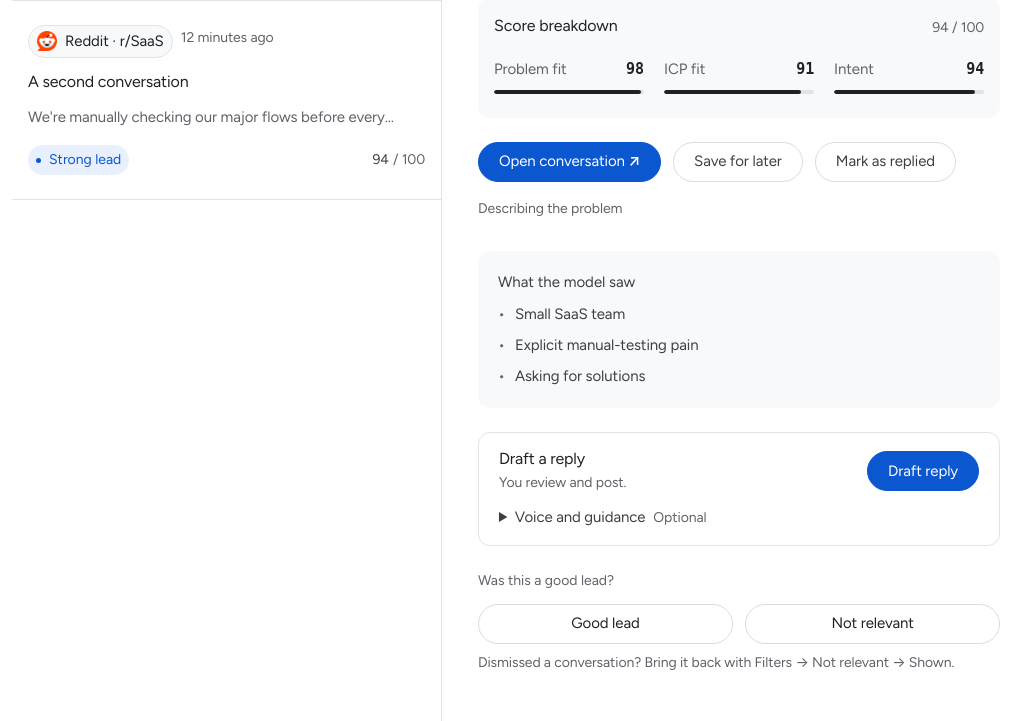
the inbox › the two buttons on a match › keeps the match on the screen when the verdict could not be saved
(page scrolled)
Click the button "Not relevant" at (873, 624), box [745, 604, 1000, 644]
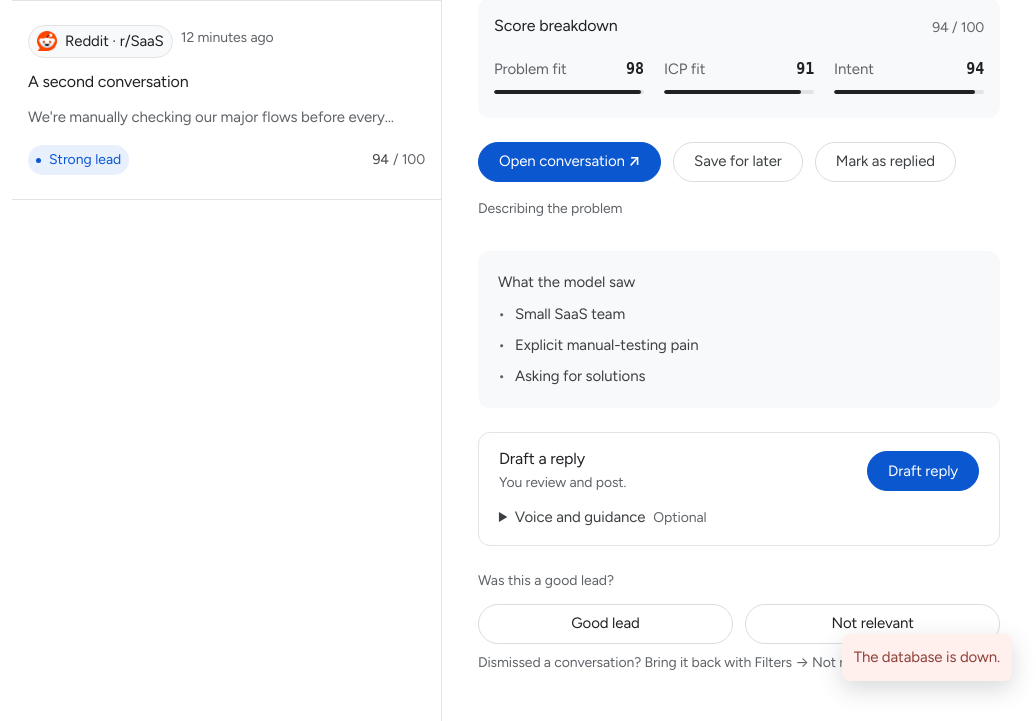
Now the text "The database is down." is shown, box [842, 634, 1012, 681]
